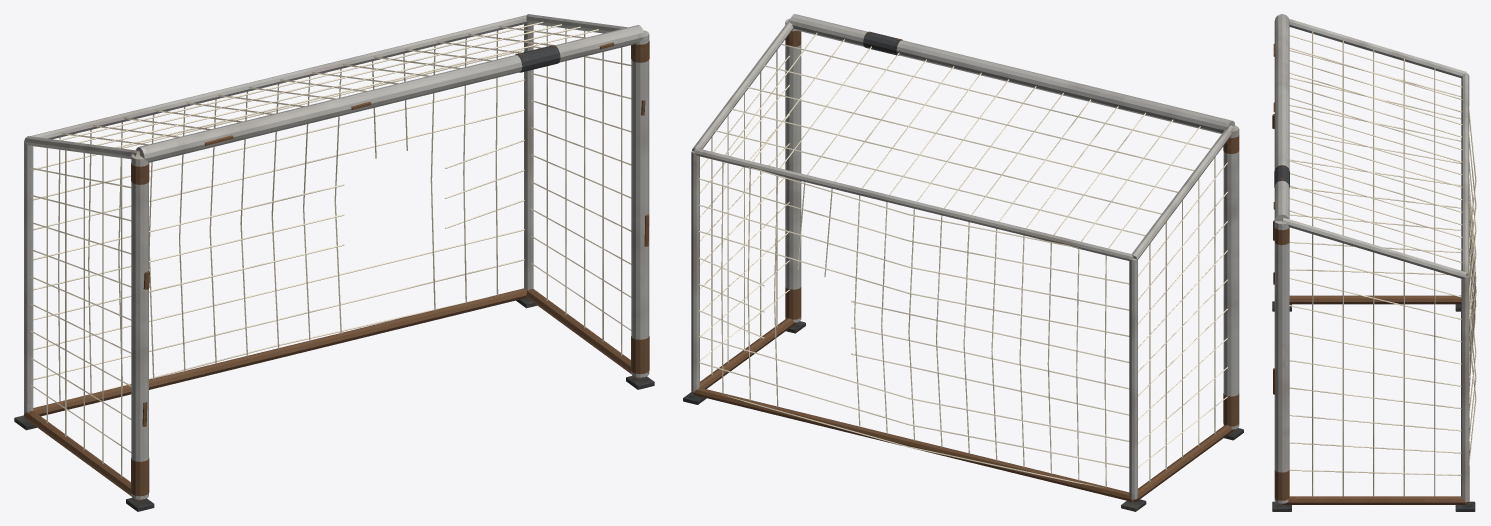
Rendered from SP02_football_goalpost.glb.
3 views of the same model, side by side, from view 1: azimuth 30°, elevation 25°; view 2: azimuth 150°, elevation 25°; view 3: azimuth 270°, elevation 25° (orthographic). The views are drawn at different scales.
Visible parts, largest first — view 1: Goal_metal_painted_white; view 2: Goal_metal_painted_white; view 3: Goal_metal_painted_white.
Part boxes in pixels (x1,y1,x2,y2): Goal_metal_painted_white: [14, 14, 654, 511]; Goal_metal_painted_white: [683, 14, 1243, 511]; Goal_metal_painted_white: [1272, 14, 1476, 511].
Bounding box in the file's own units: 3 × 1.99 × 1.25.
Materials: 5 (5 with a texture image).
